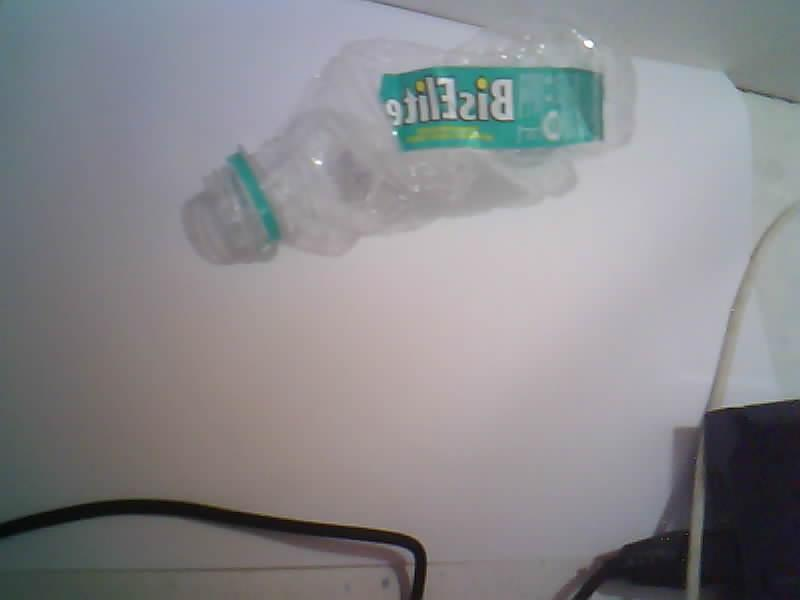non-biodegradable: (184, 25, 634, 263)
